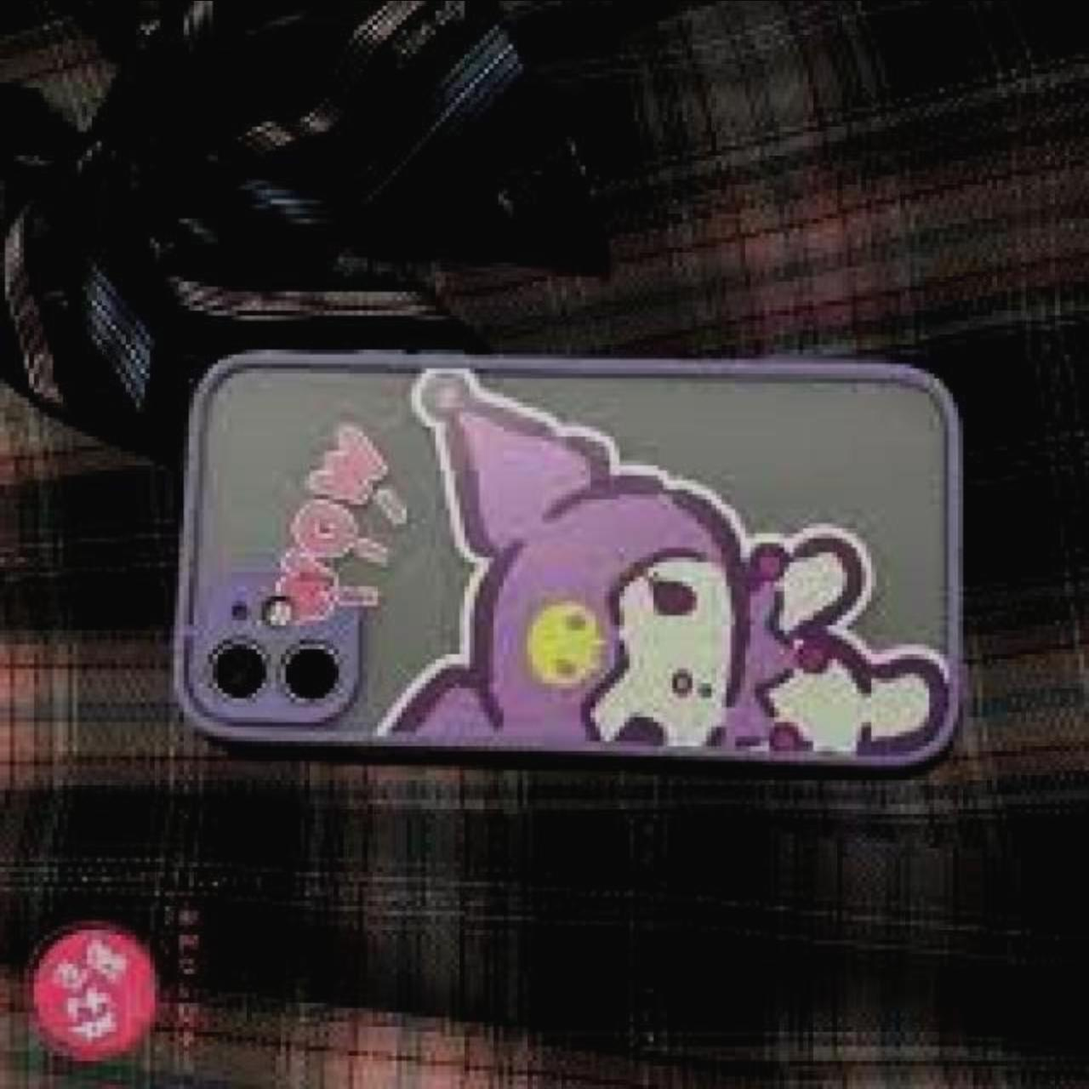phone: (168, 347, 970, 771)
